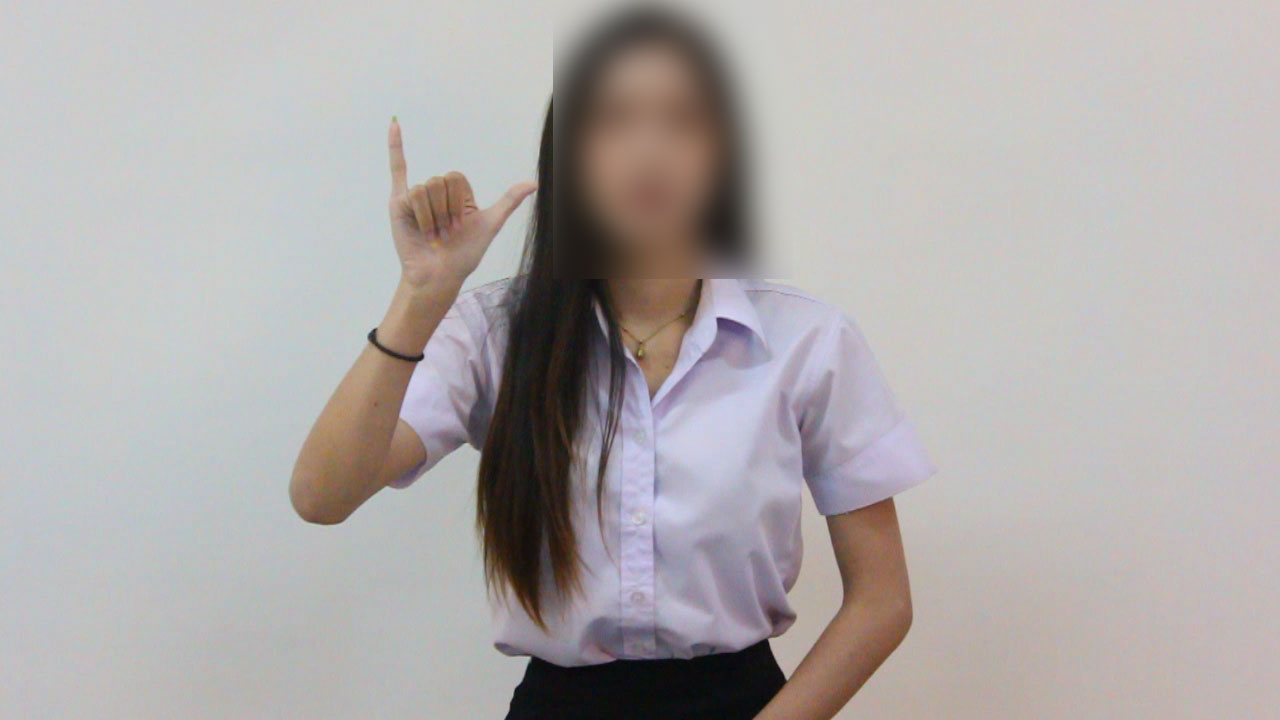yor: (372, 104, 546, 317)
